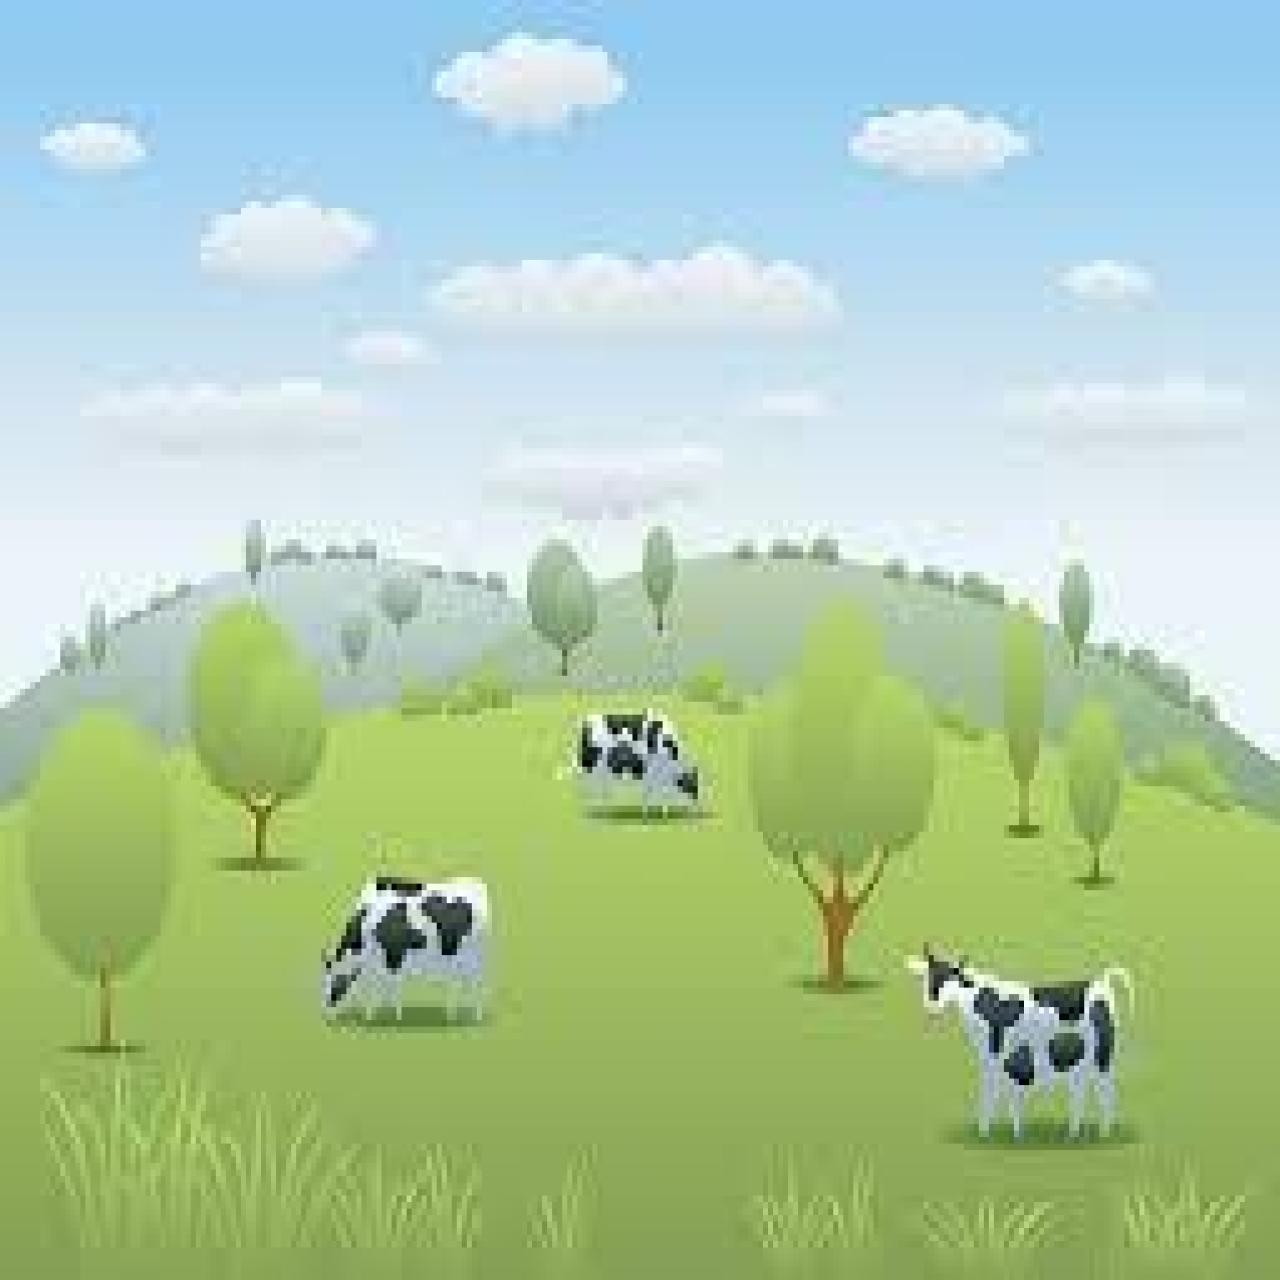cow: (904, 948, 1135, 1157), (321, 877, 497, 1027), (580, 708, 706, 812)
